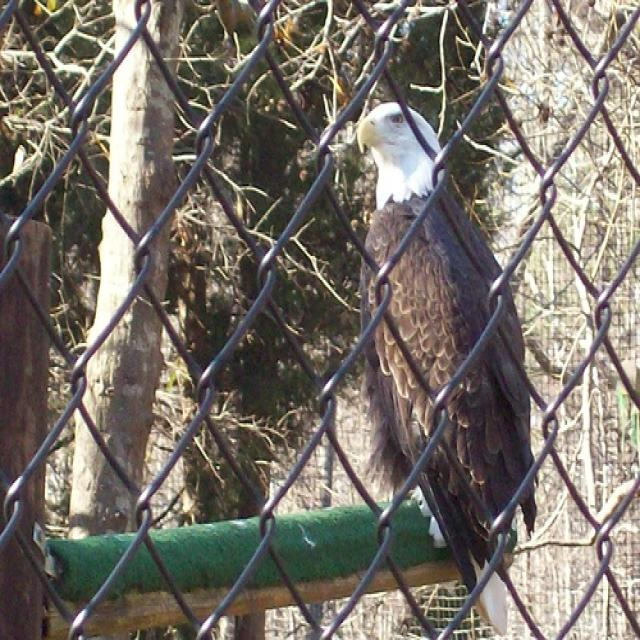bird: (357, 99, 539, 631)
